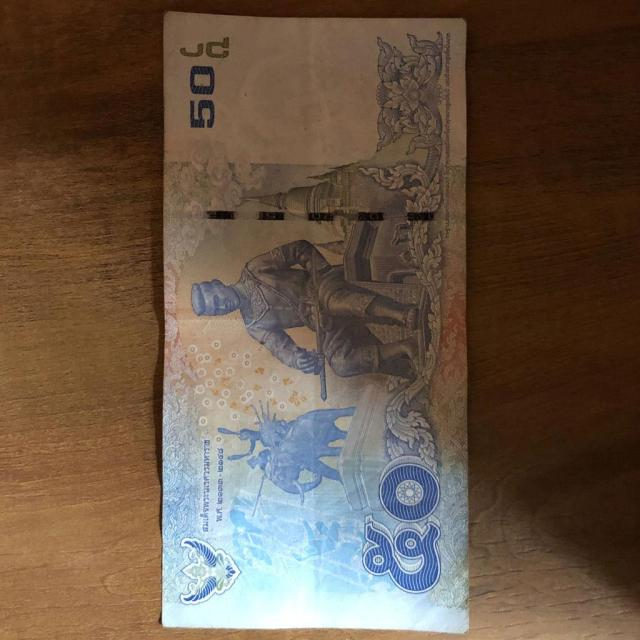THAI50: (161, 12, 468, 632)
